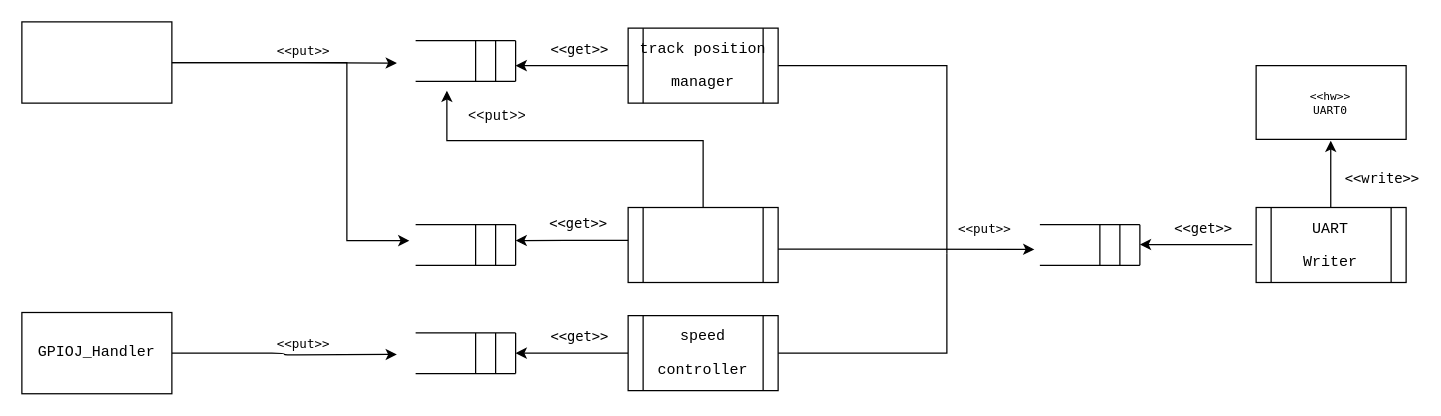
This 1441x416 diagram has some shape labels left out. Each missing label, with the centre of its shape:
"obstacle watcher" goes at point (702, 244).
"UART0_Handler" goes at point (96, 62).
